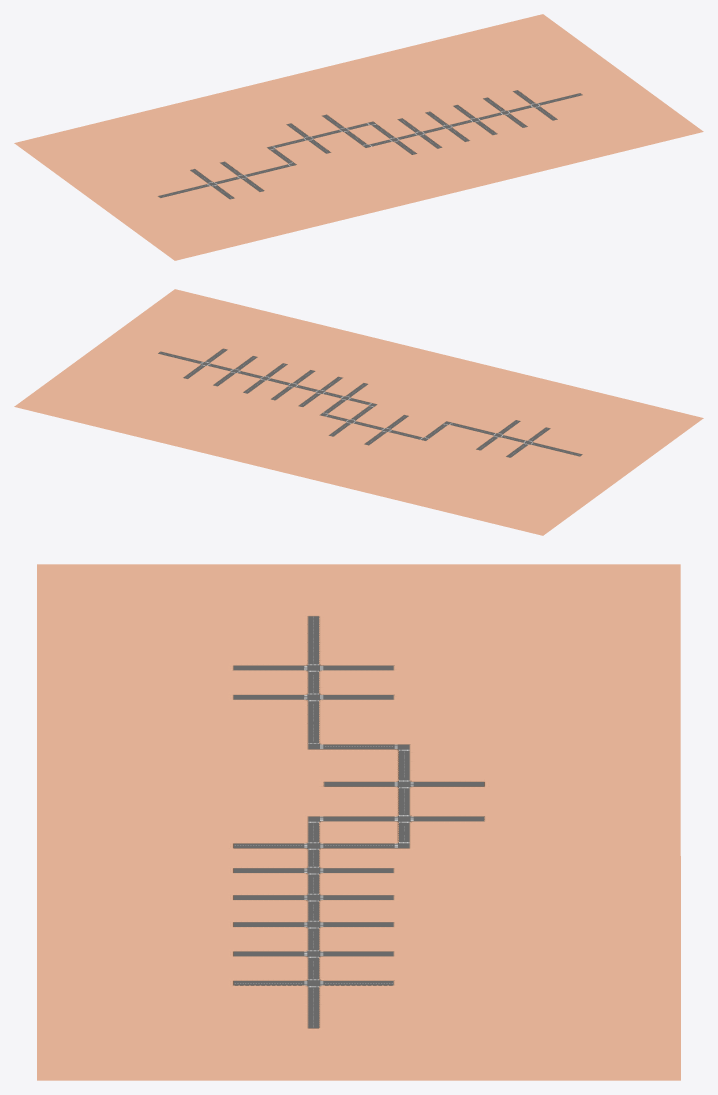
Rendered from Level 06.fbx.
3 renders of one model, top to bottom at view 1: azimuth 30°, elevation 25°; view 2: azimuth 150°, elevation 25°; view 3: azimuth 270°, elevation 25°, orthographic. The views are drawn at different scales.
Visible parts, largest first — view 1: Footpath, Road; view 2: Footpath, Road; view 3: Footpath, Road.
Part boxes in pixels (x1,y1,x2,y2): Footpath: [14, 14, 703, 260]; Road: [155, 88, 585, 200]; Footpath: [14, 289, 703, 535]; Road: [155, 347, 585, 459]; Footpath: [37, 564, 680, 1080]; Road: [228, 614, 489, 1030].
Bounding box in the file's own units: 114643 × 36.24 × 60402.
